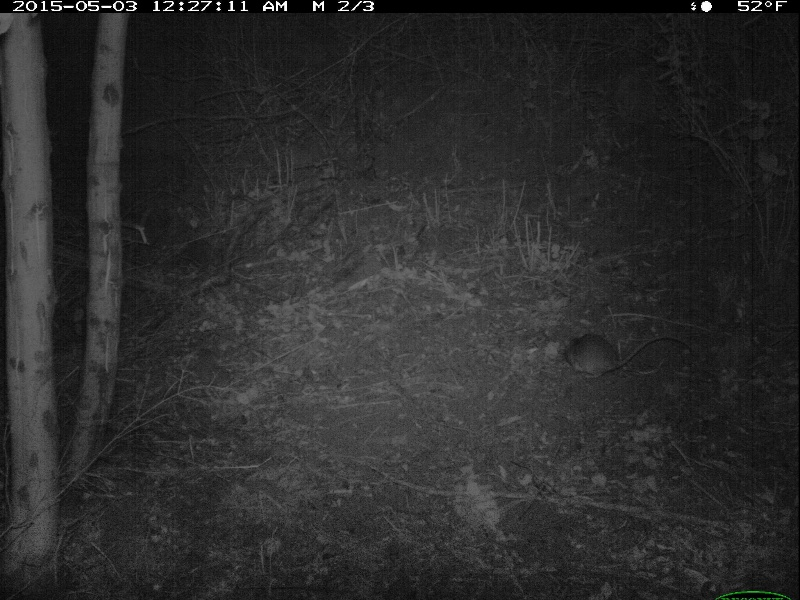opossum: (555, 326, 667, 380)
